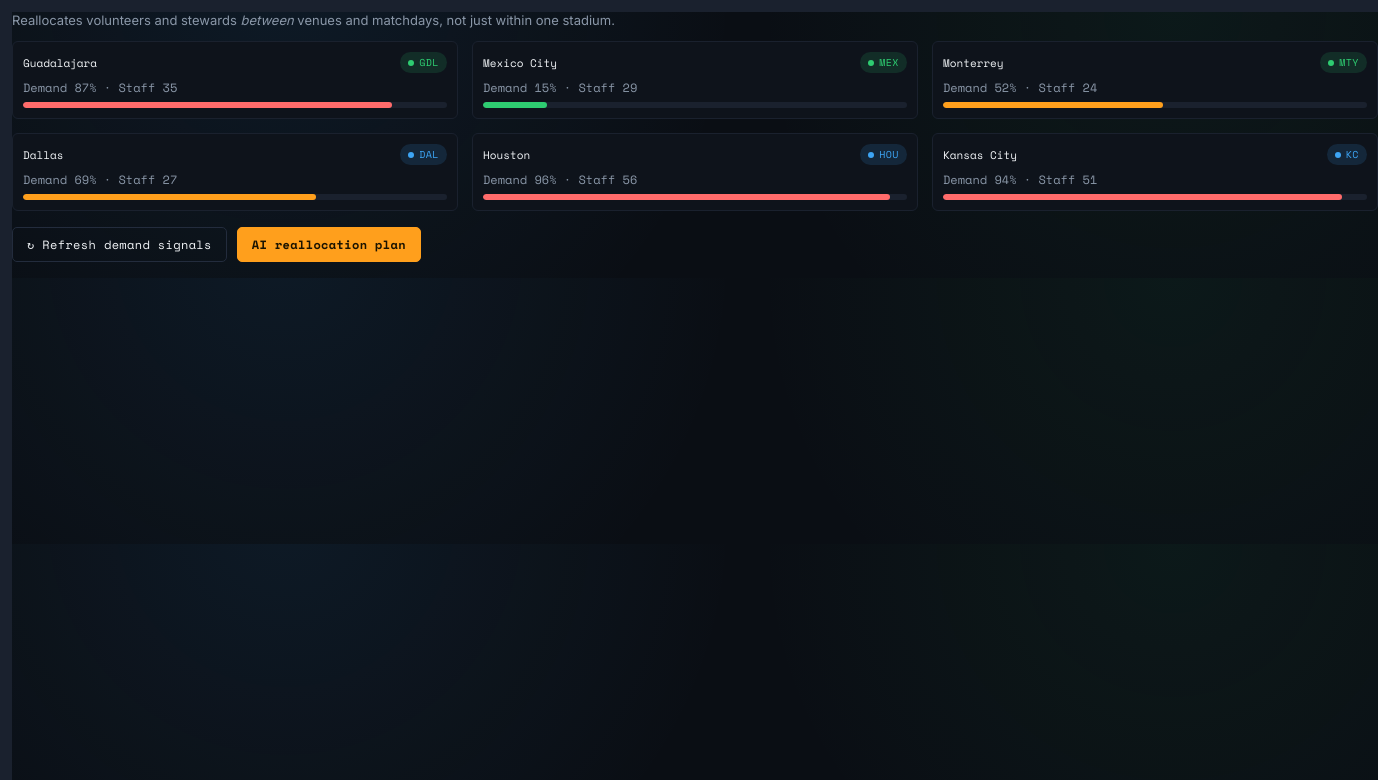
Test case: Workforce › refreshing demand signals clears the previous recommendation
Click the button "AI reallocation plan".
click(329, 244)  # box [237,227,421,262]
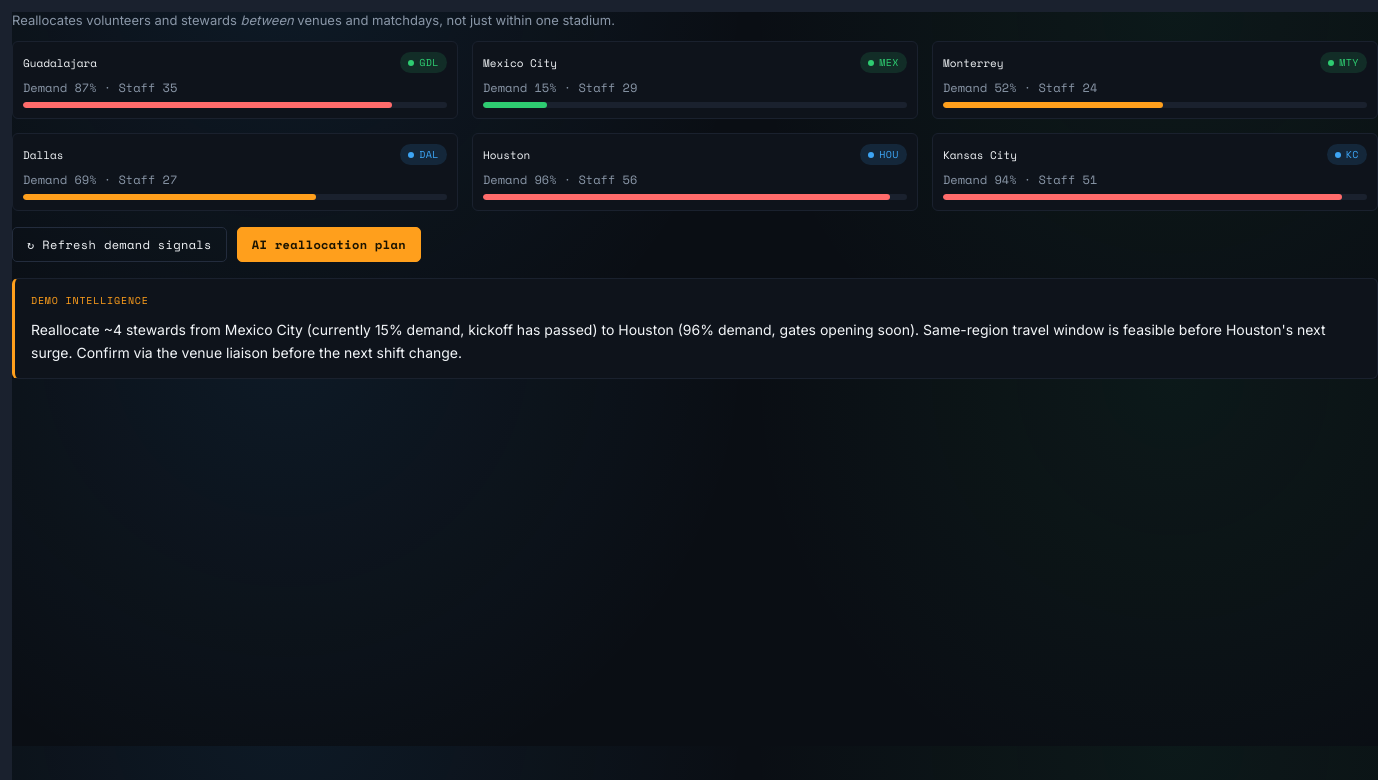
Now the text "Demo intelligence" is shown, box [31,293,149,308]
Click the button "↻ Refresh demand signals".
click(119, 244)  # box [12,227,227,262]
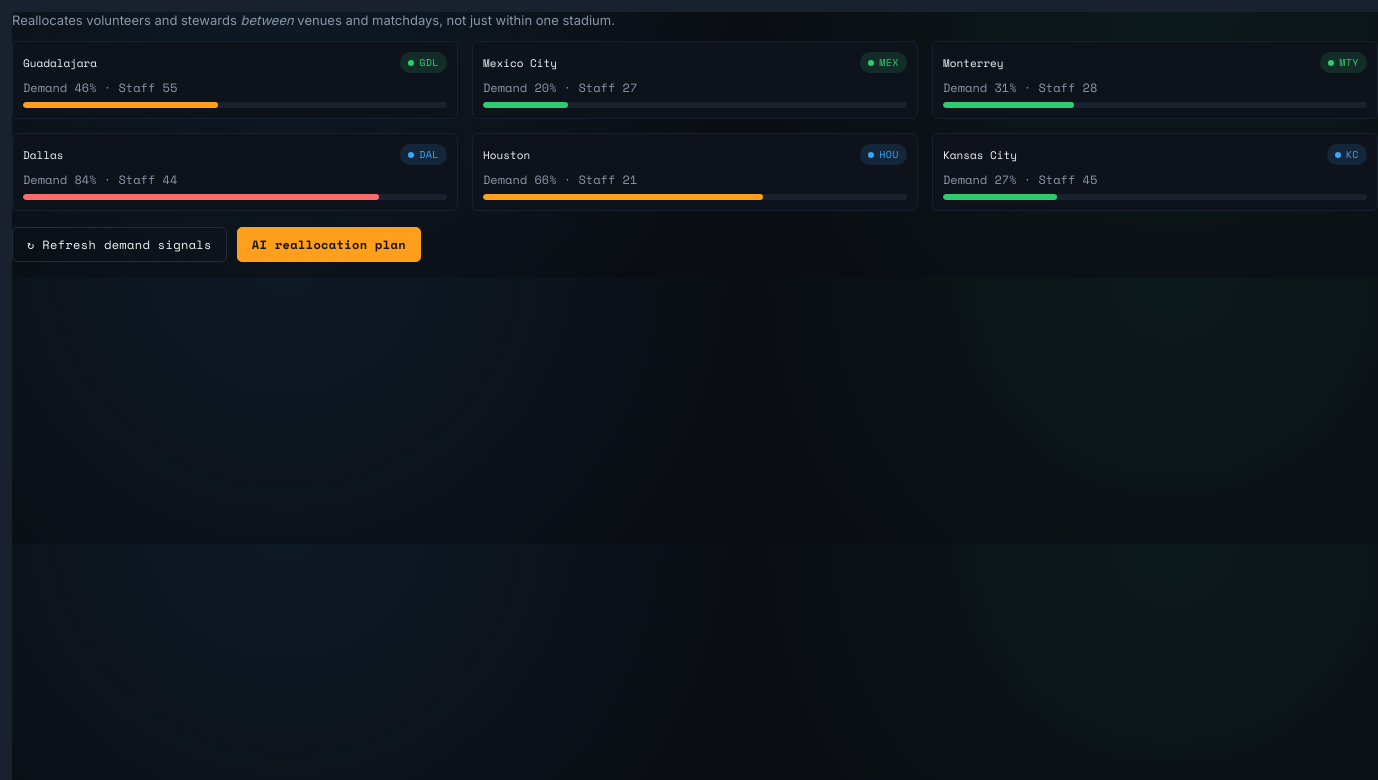
Now the text "Demo intelligence" is gone
